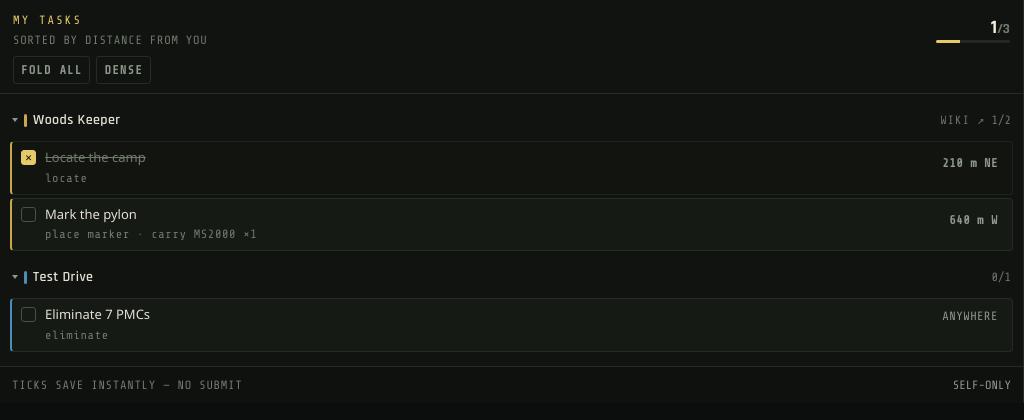
it: MyTasksPanel › folds a quest to its header and back, keeping the tally readable
Click the button "Woods Keeper".
click(77, 120)  # box [12,106,934,134]
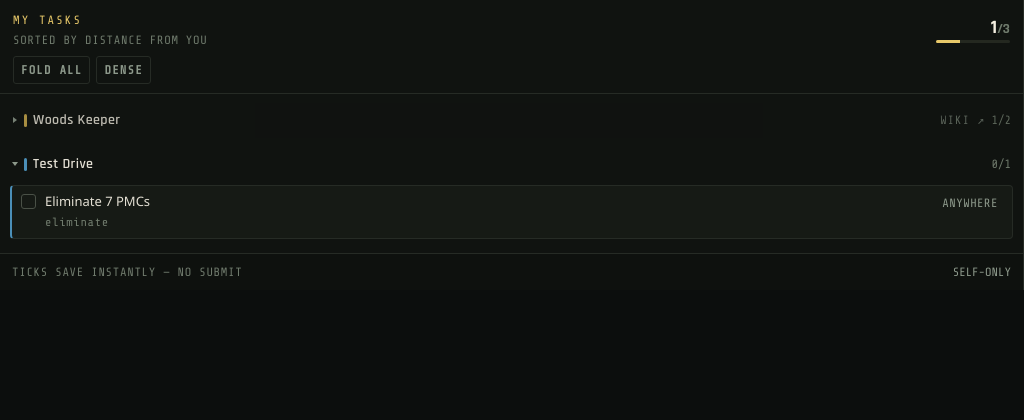
Result: the button "Woods Keeper" is collapsed
Result: the button titled "Locate the camp" is gone
Result: the button titled "Mark the pylon" is gone
Click the button "Woods Keeper".
click(77, 120)  # box [12,106,934,134]
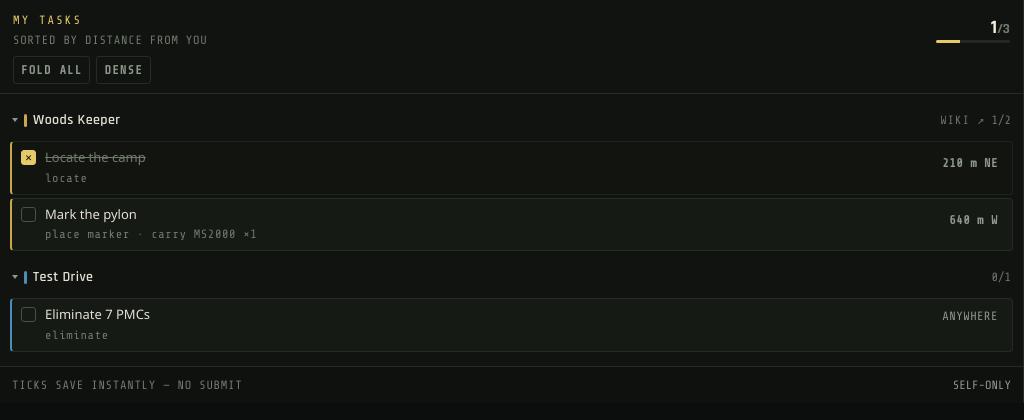
Result: the button titled "Locate the camp" is shown at [10,141,1013,194]
